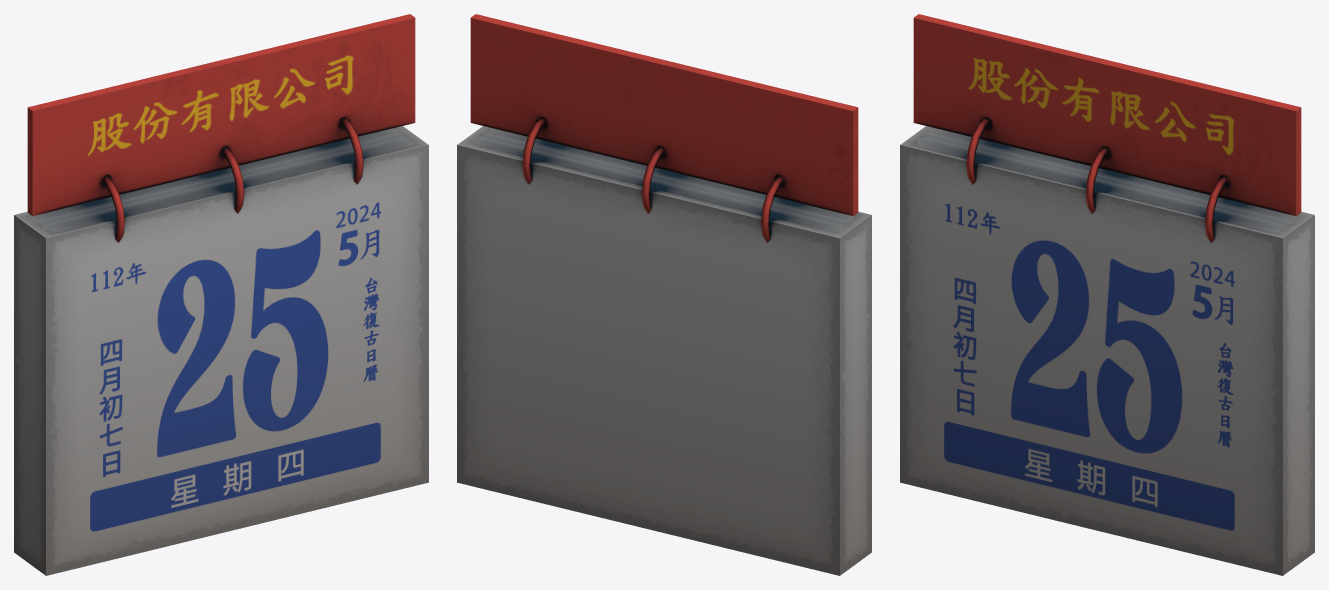
The model's file is Calendar.fbx.
3 views of the same model, side by side, from view 1: azimuth 30°, elevation 25°; view 2: azimuth 150°, elevation 25°; view 3: azimuth 330°, elevation 25° (orthographic).
Visible parts, largest first — view 1: Calendar; view 2: Calendar; view 3: Calendar.
Boxes of the visible parts, bbox=[...] form: Calendar: bbox=[14, 14, 428, 575]; Calendar: bbox=[457, 14, 871, 575]; Calendar: bbox=[900, 14, 1314, 575].
Bounding box in the file's own units: 28.21 × 32.04 × 5.18.
